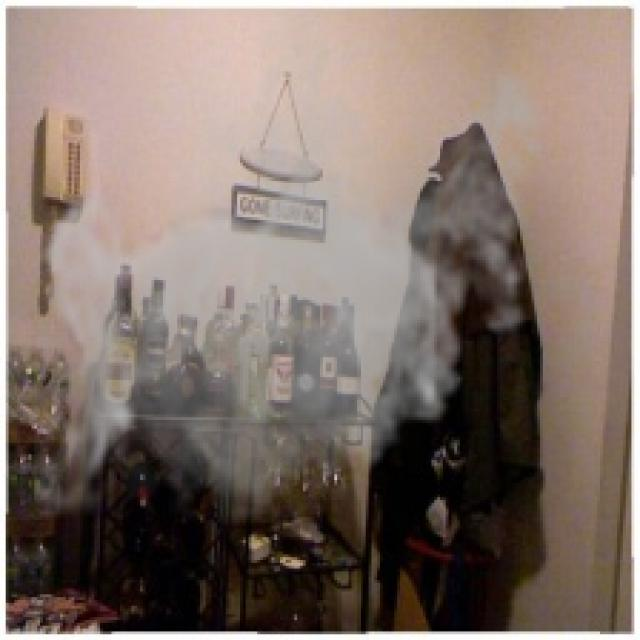smoke: (34, 9, 560, 540)
